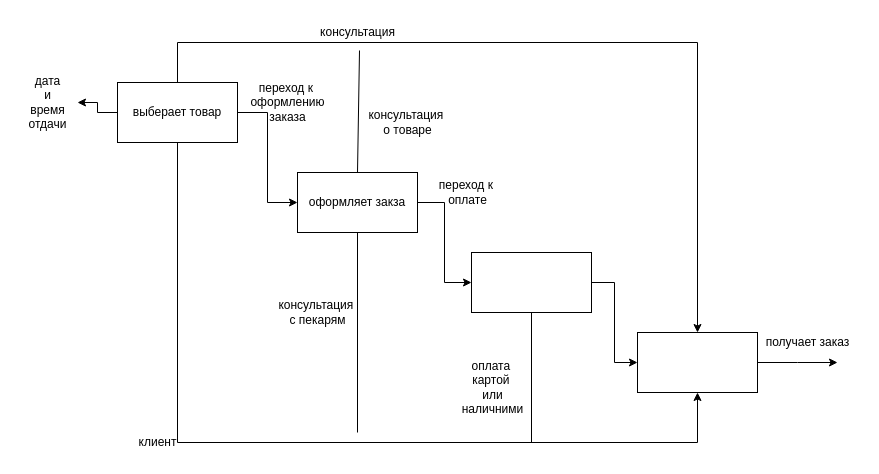
Some shapes in this 879 by 474 pixel diagram are drawn without their labels. Each missing label, with the box of its shape:
оплачивает заказ: (470, 252, 592, 312)
получает товар: (636, 332, 758, 392)
